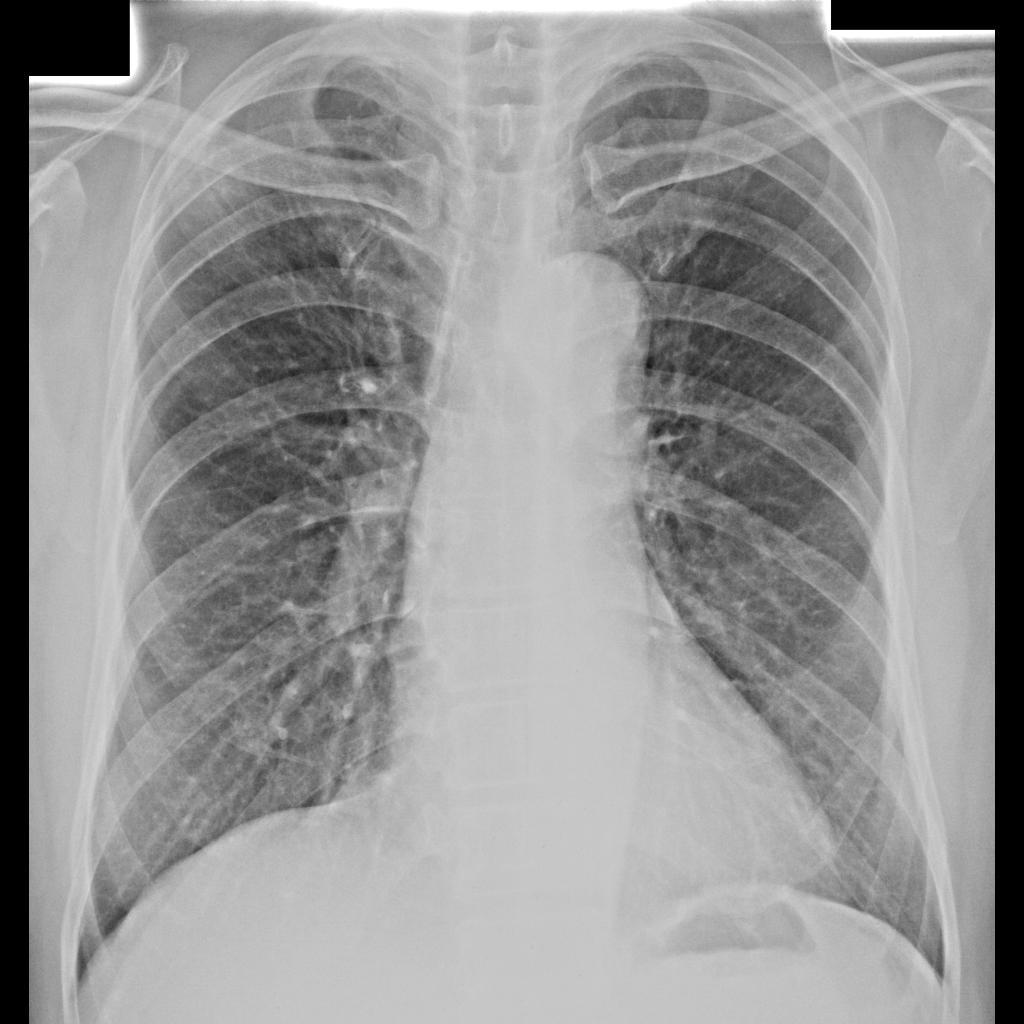Nodule: (191, 138, 259, 207)
